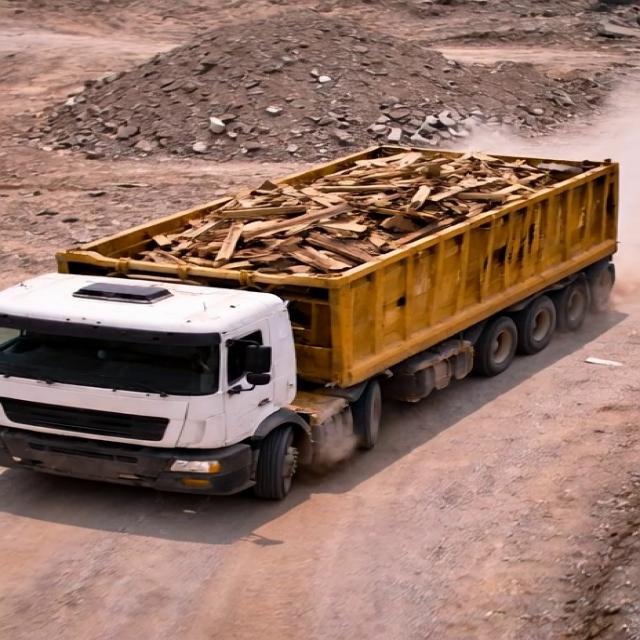Box: (56, 148, 608, 277)
Truck: (0, 132, 624, 506)
